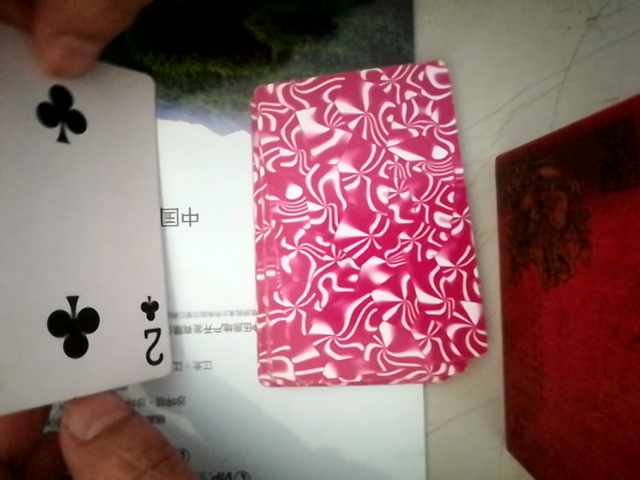mh 2: (1, 20, 206, 455)
